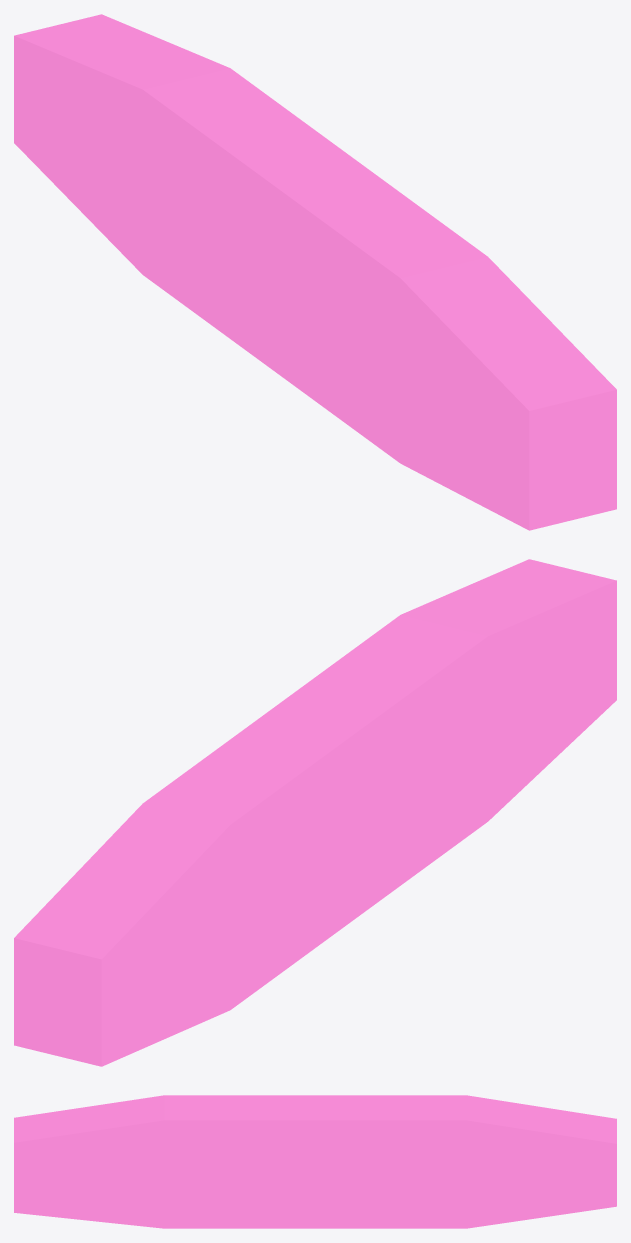
The model's file is raquette.glb.
3 views of the same model, one above another, from view 1: azimuth 30°, elevation 25°; view 2: azimuth 150°, elevation 25°; view 3: azimuth 270°, elevation 25° (orthographic). The views are drawn at different scales.
Parts seen in each view (by area): view 1: Cube; view 2: Cube; view 3: Cube.
Boxes of the visible parts, <box> form: Cube: <box>14,14,616,530</box>; Cube: <box>14,559,616,1066</box>; Cube: <box>14,1095,616,1228</box>.
Bounding box in the file's own units: 1.15 × 2.32 × 11.69.
